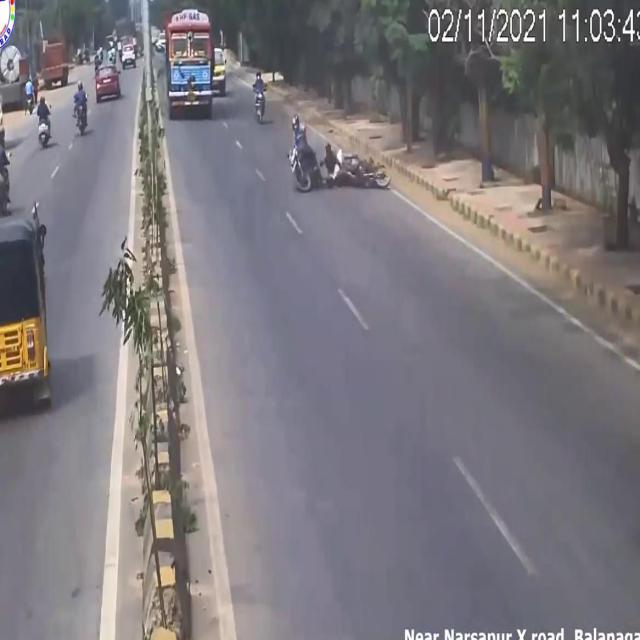accident: (286, 95, 394, 205)
non_accident: (0, 127, 56, 435), (159, 0, 237, 127), (111, 8, 144, 86)
